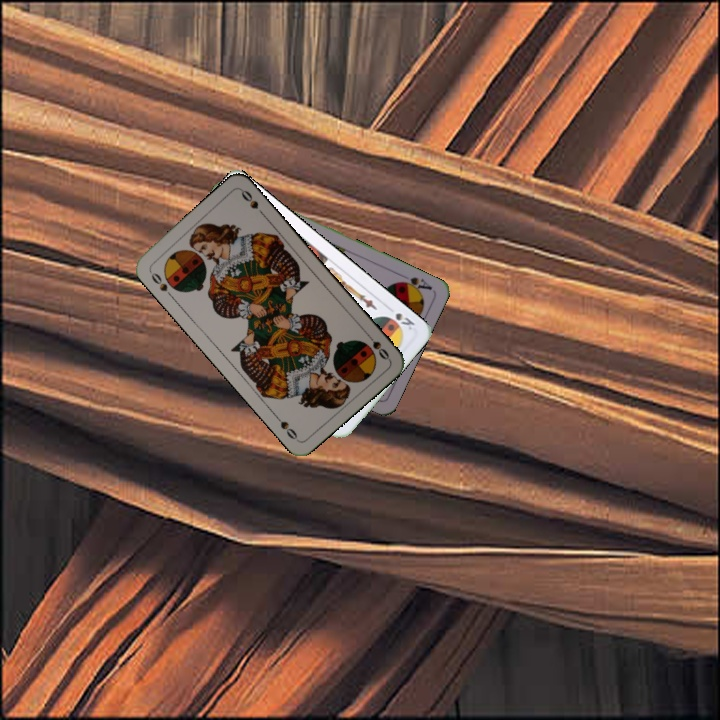SA: (394, 270, 435, 296)
SK: (391, 309, 417, 333)
SO: (145, 267, 176, 301), (362, 328, 392, 363)
